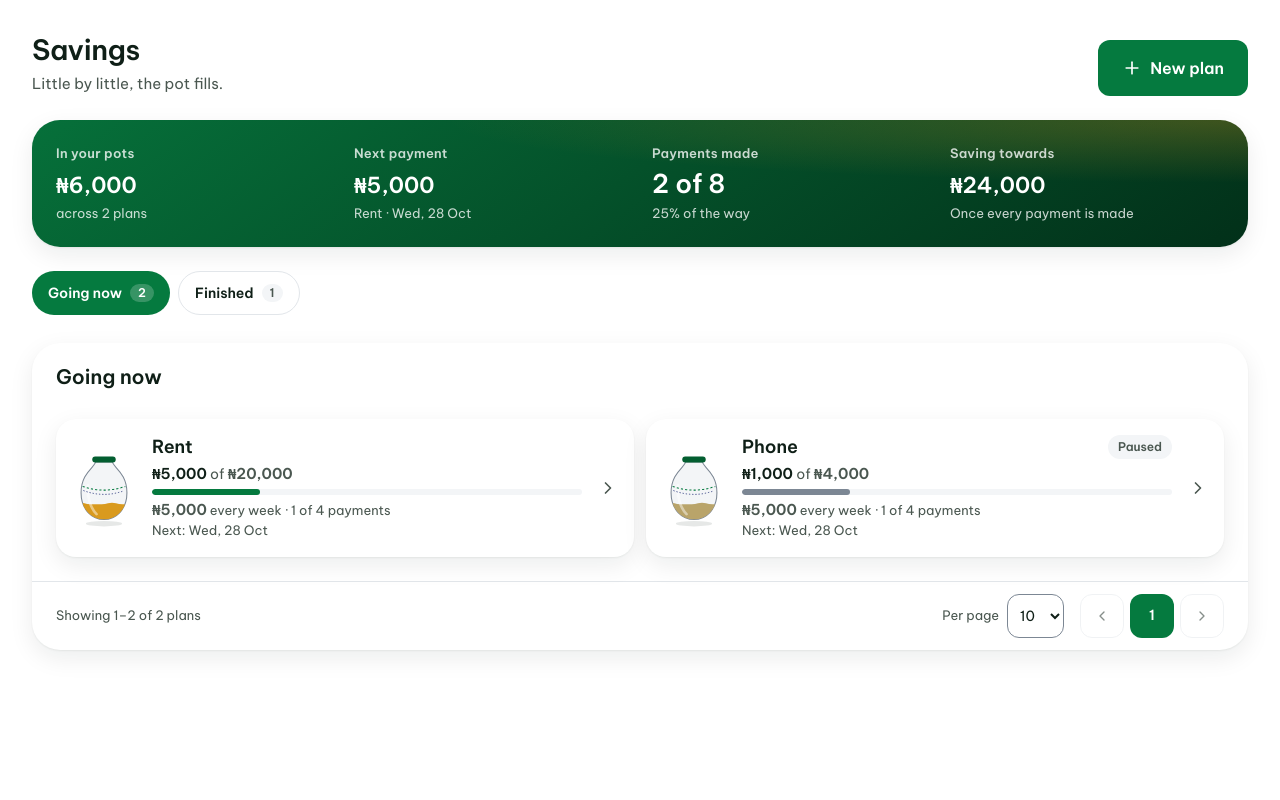
Test: the savings home › shows what is in the pots, and each plan with its next debit, separating the finished
Expected: the text "₦6,000" is shown, [56,170,137,198]
Expected: the text "across 2 plans" is shown, [56,204,147,220]
Click the button "Finished 1" at (239, 293), box [178,271,300,315]
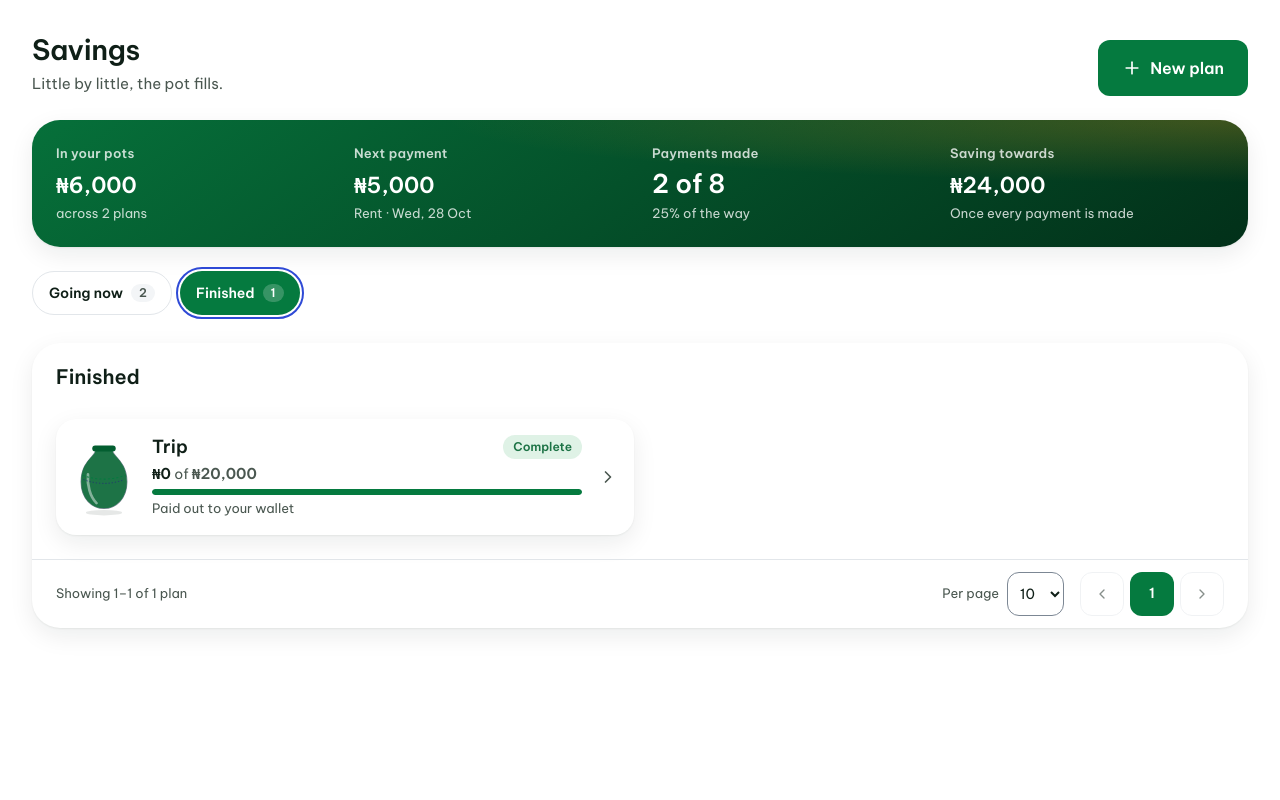
Expected: the text "Complete" is shown, [503,435,582,459]
Expected: the text "Paid out to your wallet" is shown, [152,500,294,516]
